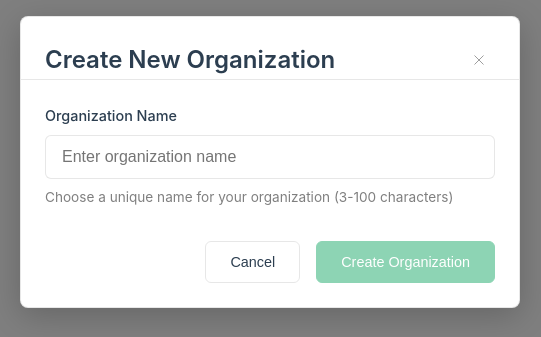
Scenario: CreateOrganization › Form Validation › should enable submit button when form is valid
In the field labelled "Organization Name": coordinates (270, 157) [45, 135, 495, 179], type "Valid Organization Name"
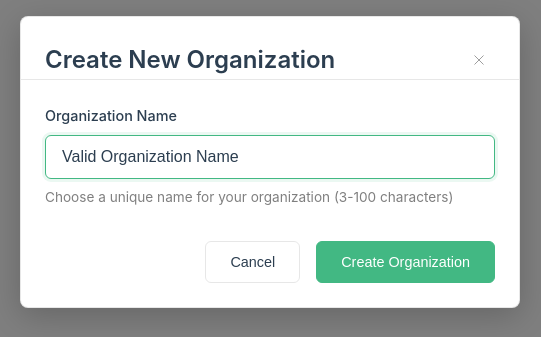
Expected: the submit button is enabled, [316, 241, 495, 283]
